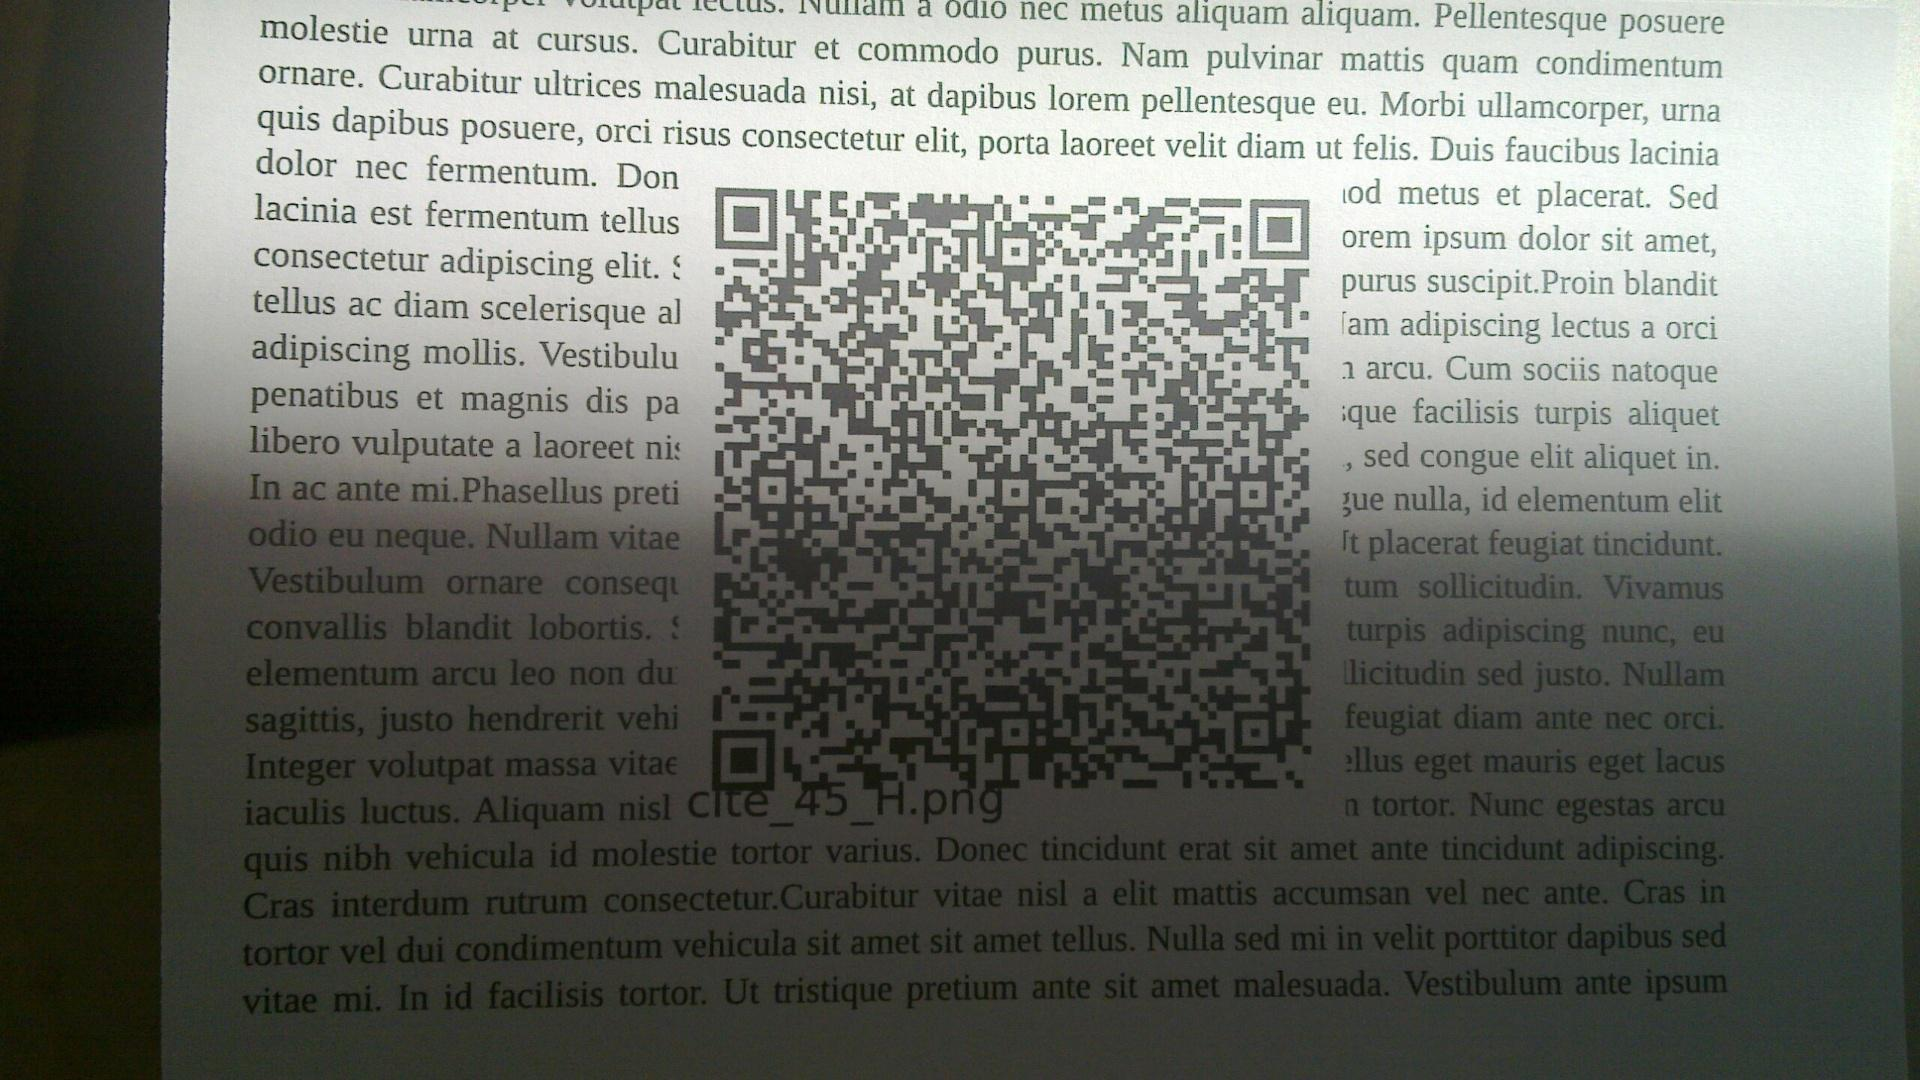Finder pattern: (705, 181, 785, 255), (709, 723, 781, 795), (1246, 195, 1313, 264)
